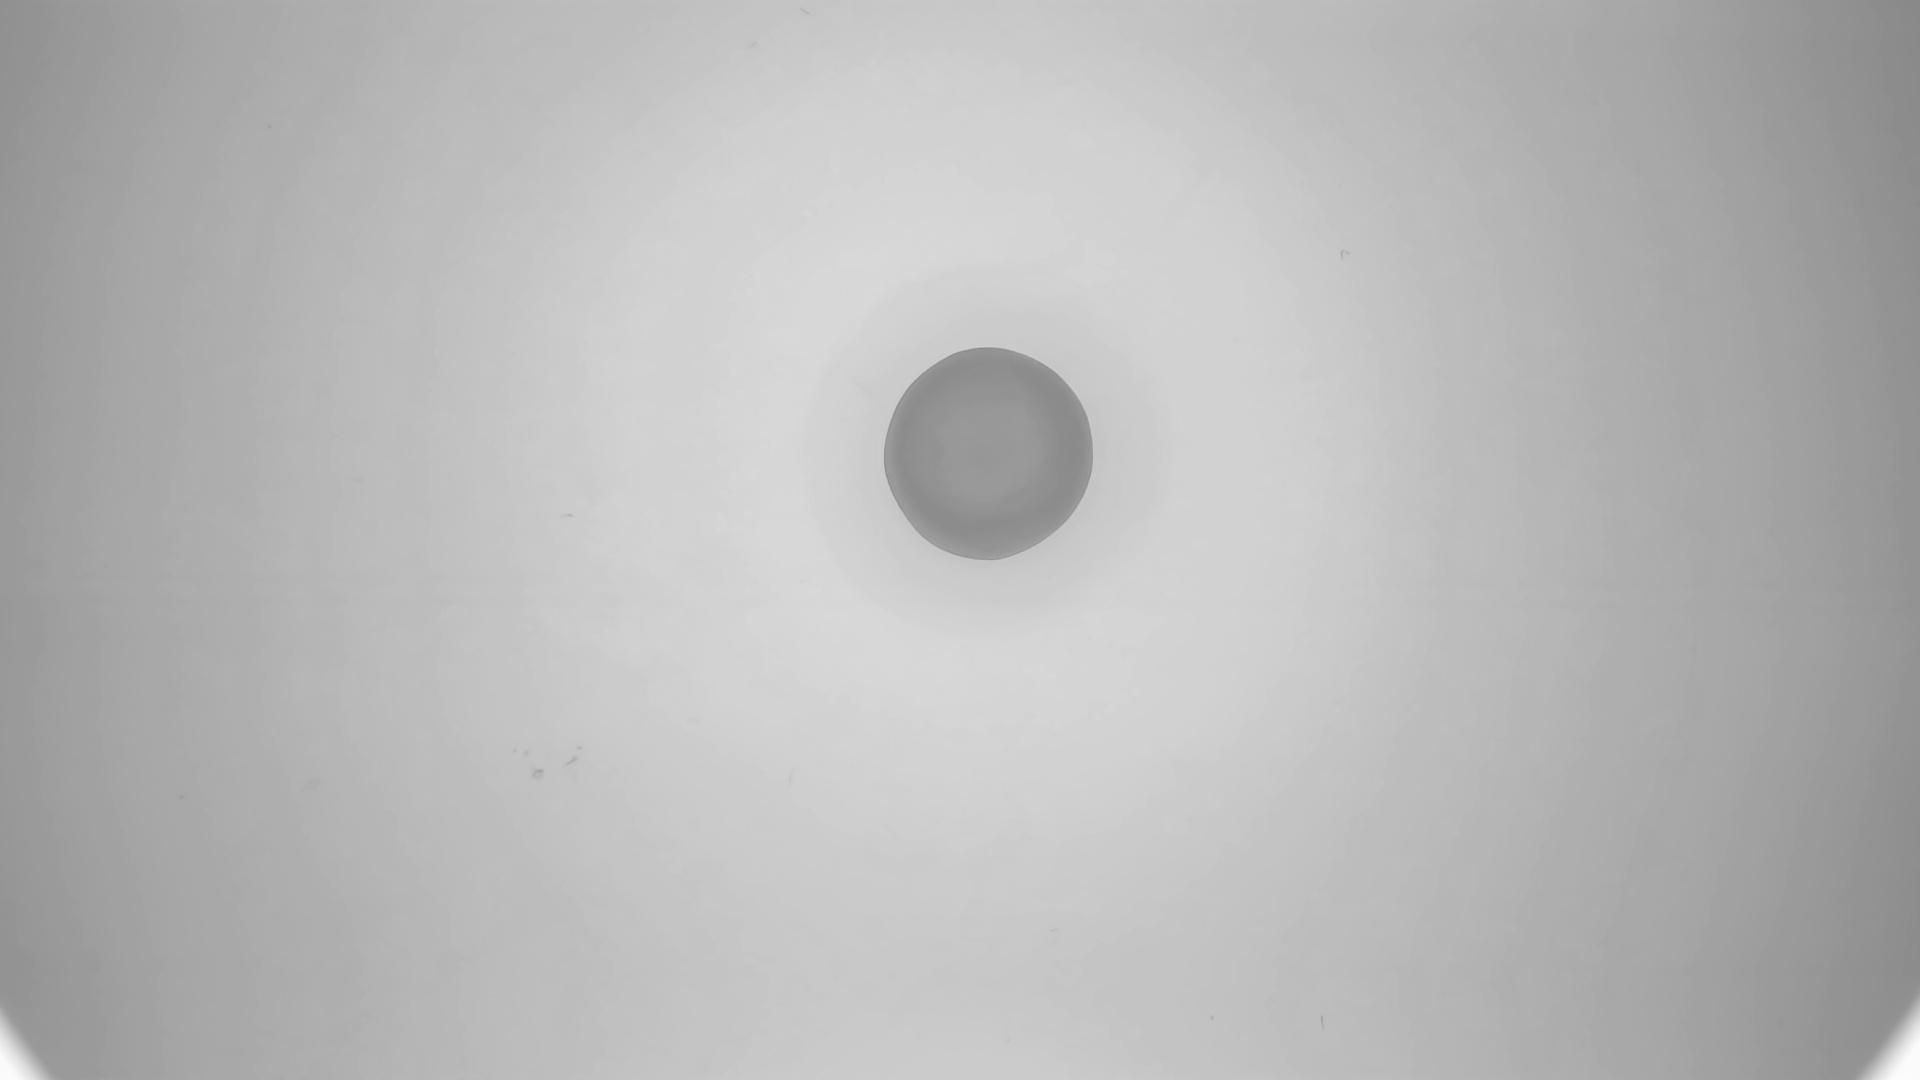normal: (884, 344, 1098, 564)
